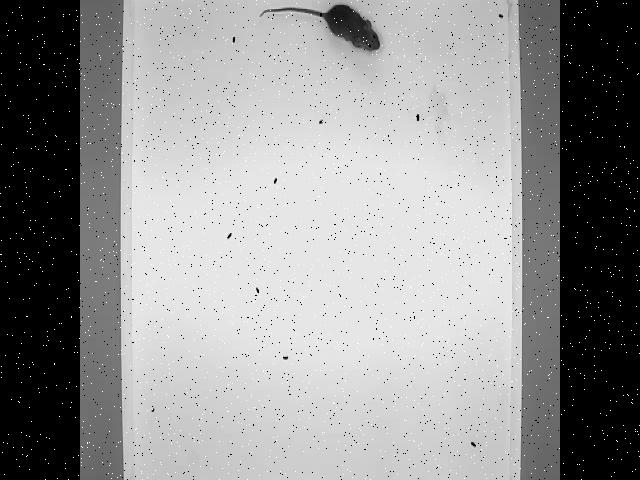Tikus: (255, 0, 391, 58)
